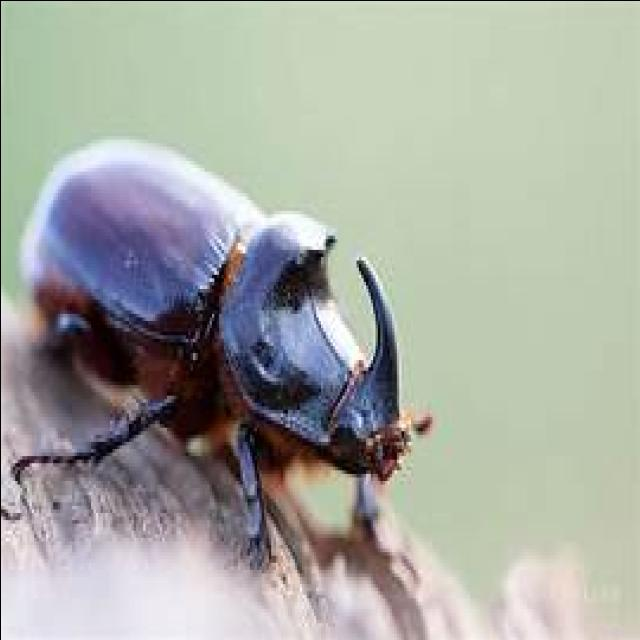Rhino-beetle: (11, 133, 444, 550)
